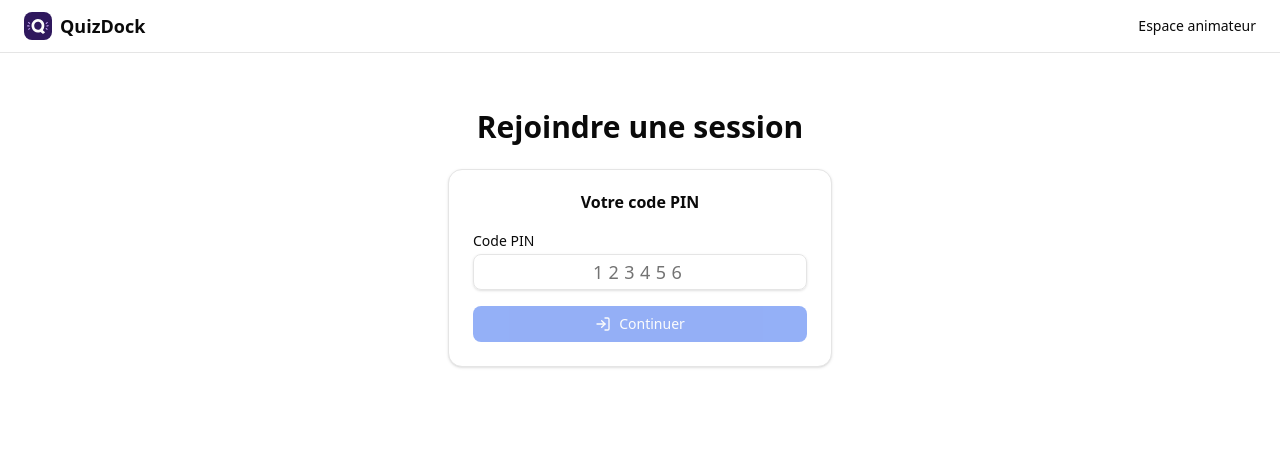
it: JoinPage (saisie du PIN) › navigue vers /join/$pin après saisie du PIN
In the field with placeholder "123456": coordinates (640, 272) [473,254,807,290], type "771122"
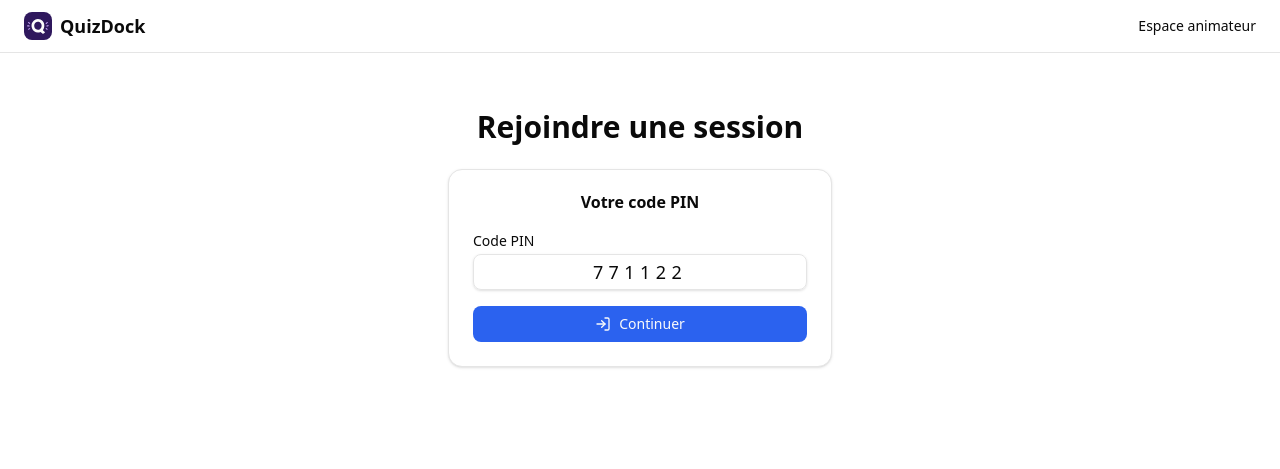
Click the button "Continuer": coordinates (640, 324) [473,306,807,342]
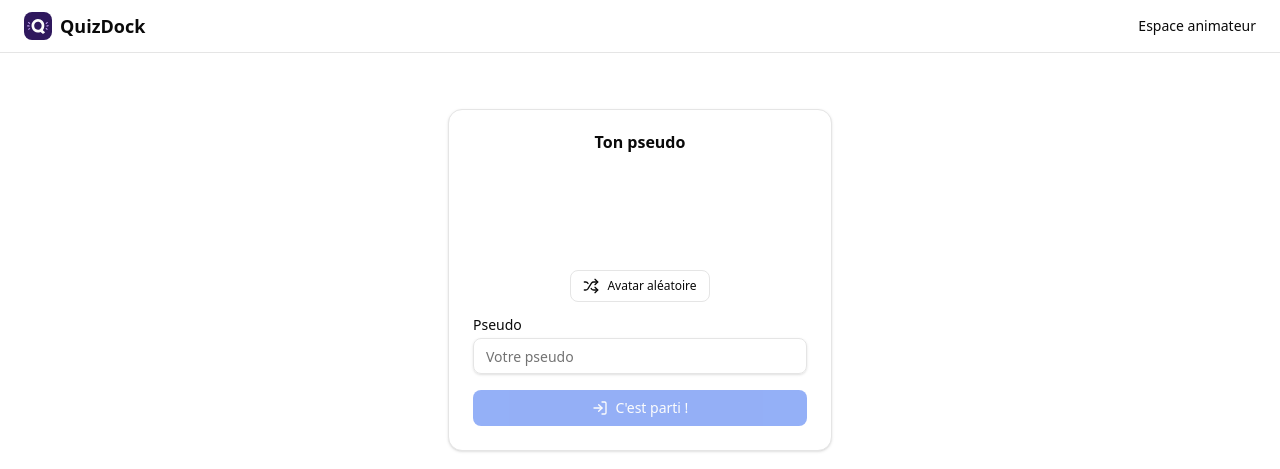
Expected: the field with placeholder "Votre pseudo" is shown, [473,338,807,374]
